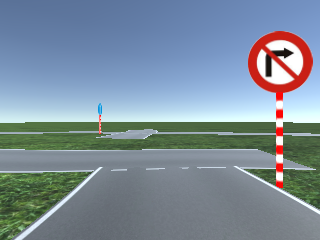10: (1, 193, 320, 239)
NoRight: (247, 31, 313, 93)
